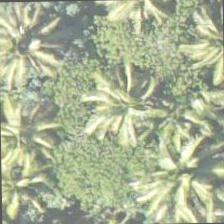Kelapa_Sawit: (89, 52, 181, 144), (131, 133, 223, 224), (0, 131, 60, 222), (0, 19, 57, 111), (166, 6, 223, 98)
